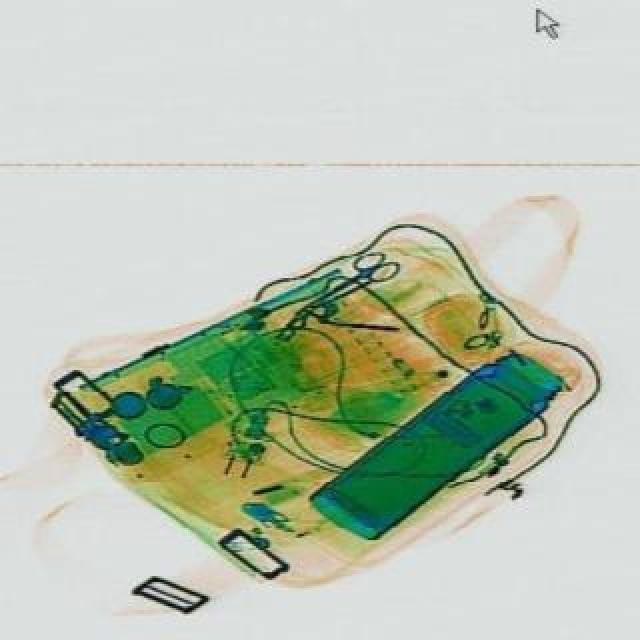pliers: (306, 242, 398, 310)
